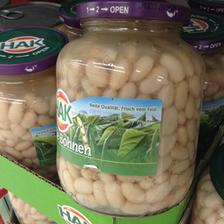Bohnen: (56, 2, 200, 206), (0, 26, 56, 177)
